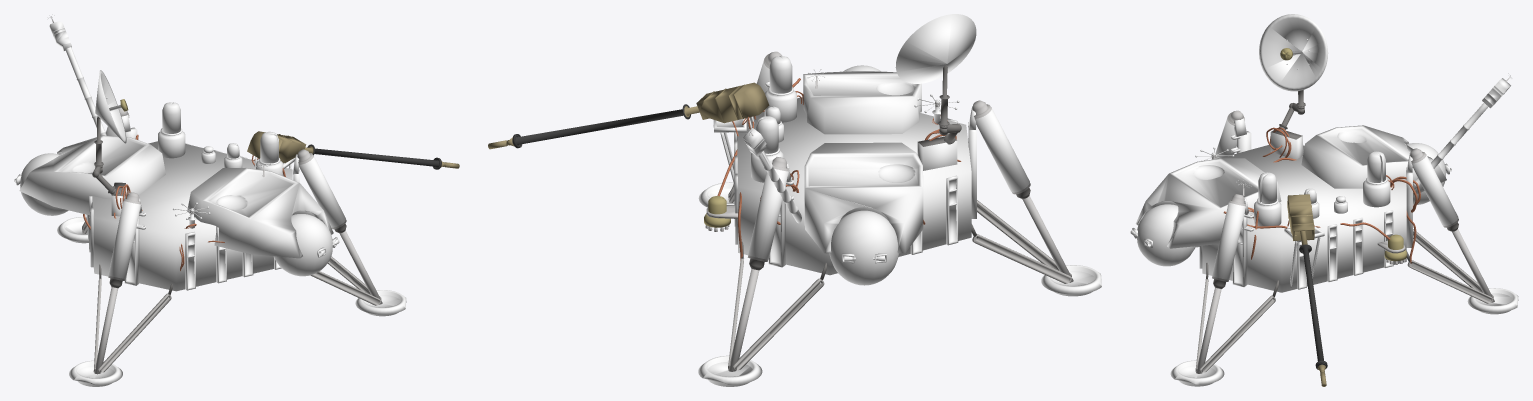
The model's file is viking.glb.
3 renders of one model, left to right at view 1: azimuth 30°, elevation 25°; view 2: azimuth 150°, elevation 25°; view 3: azimuth 270°, elevation 25°, orthographic. The views are drawn at different scales.
Parts seen in each view (by area): view 1: polySurfa1, polySurfa2; view 2: polySurfa1, polySurfa2; view 3: polySurfa1, polySurfa2.
Part boxes in pixels (x1,y1,x2,y2): polySurfa1: (14,14,459,386); polySurfa2: (83,134,258,270); polySurfa1: (488,14,1101,386); polySurfa2: (717,95,961,260); polySurfa1: (1130,14,1518,386); polySurfa2: (1211,127,1420,263).
Size of the model in its own units: 16.74 by 8.97 by 12.55.
Materials: 4 (4 with a texture image).
